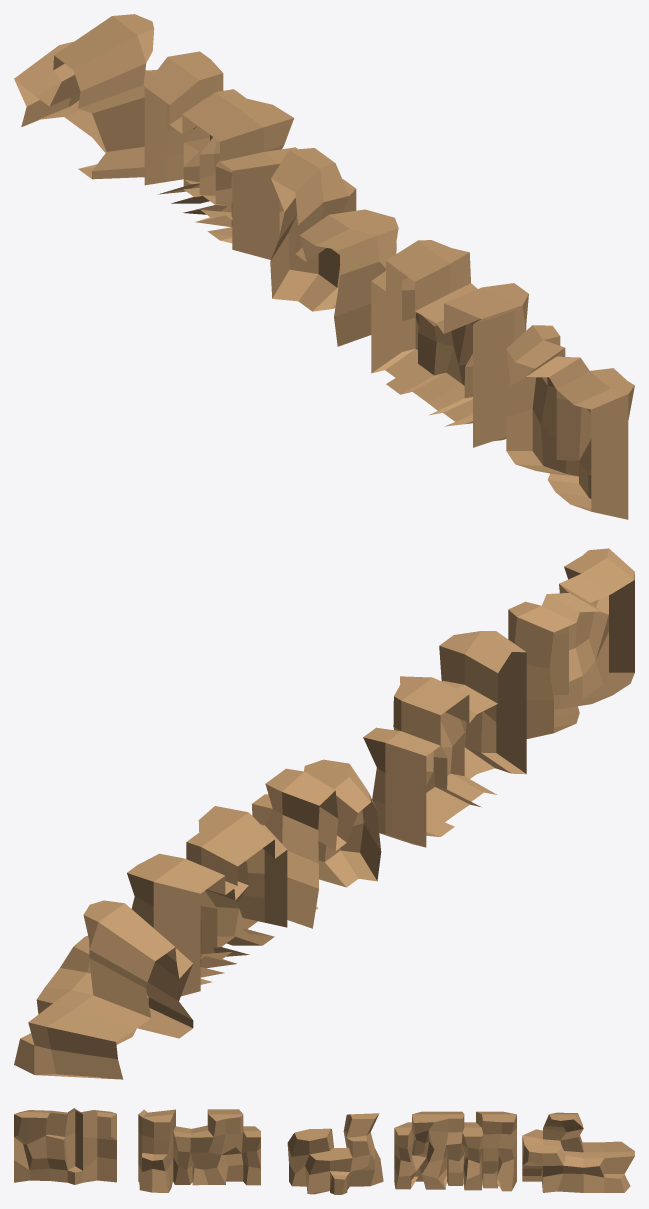
Rendered from RockWalls.fbx.
The picture shows the model from 3 angles, top to bottom: view 1: azimuth 30°, elevation 25°; view 2: azimuth 150°, elevation 25°; view 3: azimuth 270°, elevation 25°; orthographic projection. The views are drawn at different scales.
Visible parts, largest first — view 1: Wall_2, Wall_4, Wall_1, Wall_3, Wall_5; view 2: Wall_2, Wall_5, Wall_4, Wall_1, Wall_3; view 3: Wall_4, Wall_2, Wall_1, Wall_5, Wall_3.
Boxes of the visible parts, bbox=[...] form: Wall_2: bbox=[371, 240, 528, 447]; Wall_4: bbox=[144, 51, 297, 259]; Wall_1: bbox=[506, 325, 634, 519]; Wall_3: bbox=[270, 148, 398, 346]; Wall_5: bbox=[14, 14, 157, 179]; Wall_2: bbox=[363, 631, 526, 847]; Wall_5: bbox=[14, 900, 193, 1079]; Wall_4: bbox=[127, 806, 287, 996]; Wall_1: bbox=[508, 548, 634, 738]; Wall_3: bbox=[252, 759, 381, 928]; Wall_4: bbox=[394, 1111, 516, 1191]; Wall_2: bbox=[138, 1109, 260, 1192]; Wall_1: bbox=[14, 1108, 116, 1184]; Wall_5: bbox=[522, 1112, 634, 1192]; Wall_3: bbox=[287, 1113, 383, 1194].
Size of the model in its own units: 4.74 by 5.67 by 42.3.
